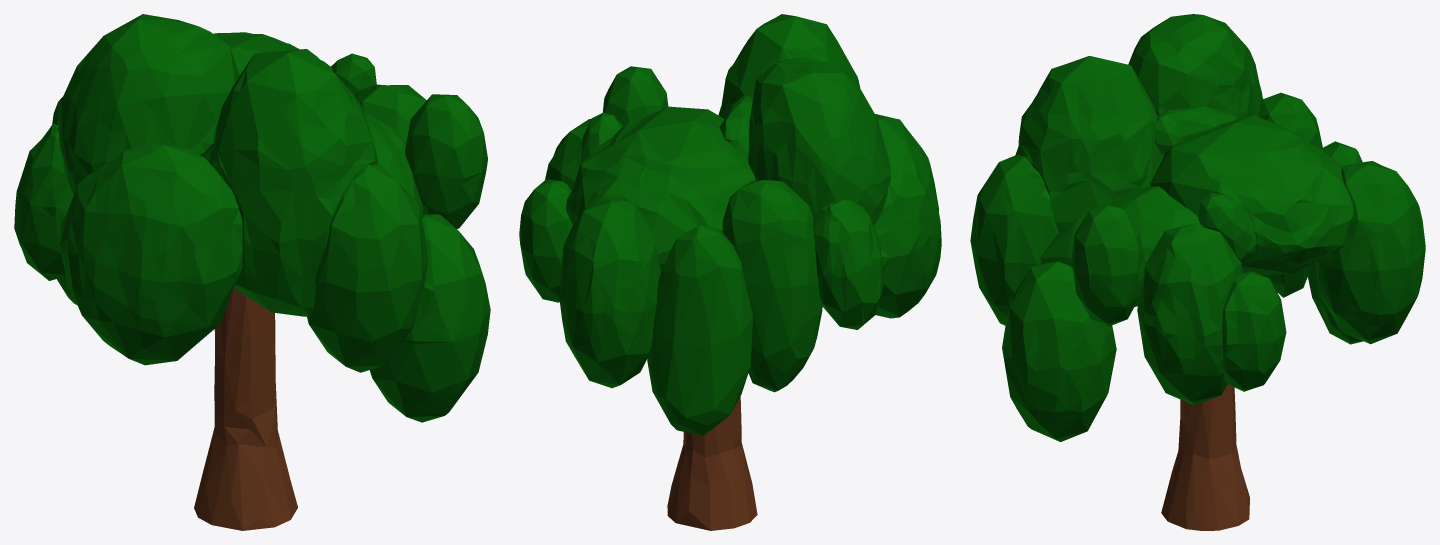
The model's file is Willow.fbx.
3 renders of one model, left to right at view 1: azimuth 30°, elevation 25°; view 2: azimuth 150°, elevation 25°; view 3: azimuth 270°, elevation 25°, orthographic. The views are drawn at different scales.
Visible parts, largest first — view 1: Willowtrunk, Willowtrunk.001; view 2: Willowtrunk, Willowtrunk.001; view 3: Willowtrunk, Willowtrunk.001.
Part boxes in pixels (<box>): Willowtrunk: <box>14,14,490,422</box>; Willowtrunk.001: <box>194,288,297,530</box>; Willowtrunk: <box>519,14,941,435</box>; Willowtrunk.001: <box>667,396,757,530</box>; Willowtrunk: <box>970,14,1425,441</box>; Willowtrunk.001: <box>1161,384,1249,530</box>.
Bounding box in the file's own units: 282 × 308 × 249.
